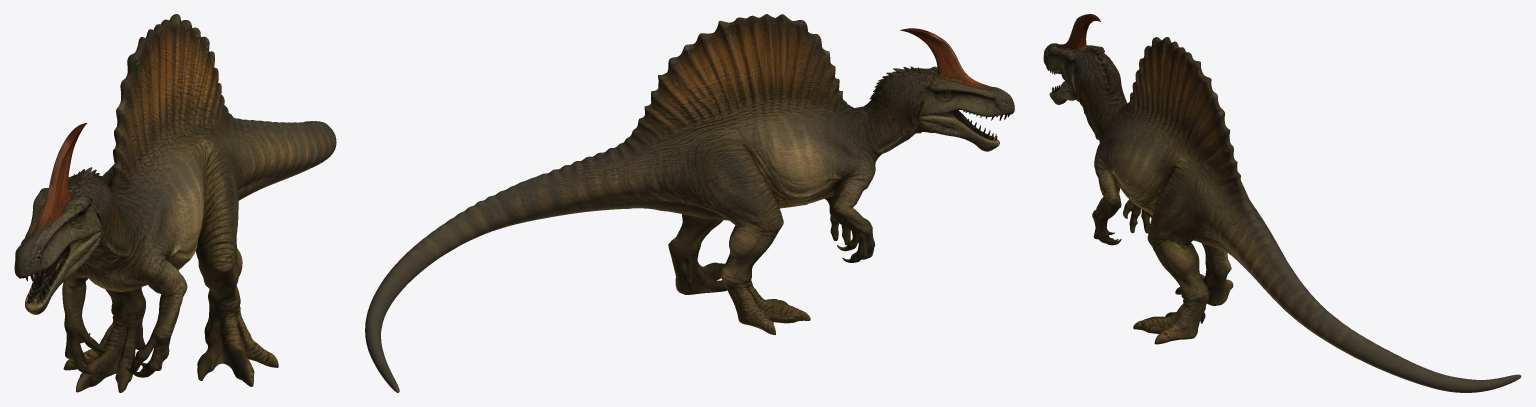
The model's file is spinosaurus_mirabilis.lod.glb.
3 renders of one model, left to right at view 1: azimuth 30°, elevation 25°; view 2: azimuth 150°, elevation 25°; view 3: azimuth 270°, elevation 25°, orthographic. The views are drawn at different scales.
Parts seen in each view (by area): view 1: Object_4; view 2: Object_4; view 3: Object_4.
Part boxes in pixels (x1,y1,x2,y2): Object_4: (14, 14, 336, 392); Object_4: (365, 14, 1014, 392); Object_4: (1043, 14, 1521, 392).
Size of the model in its own units: 0.8282 by 0.527 by 0.8668.
1 material, 1 textured.
